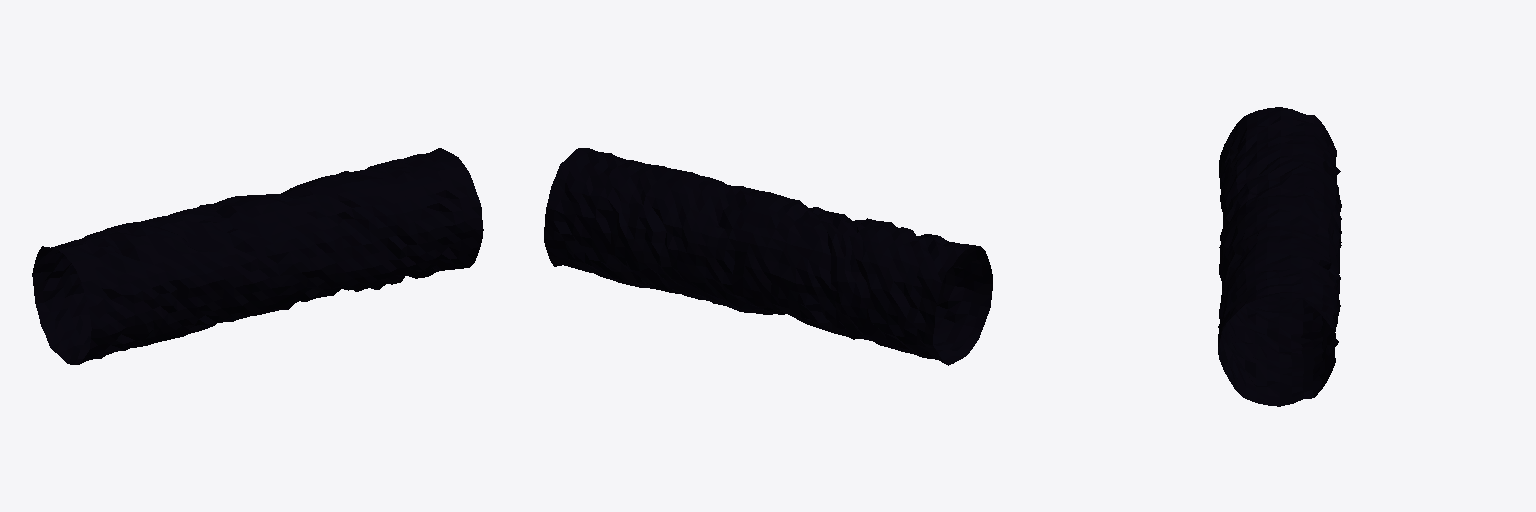
The model's file is gridploskve.obj.
3 views of the same model, side by side, from view 1: azimuth 30°, elevation 25°; view 2: azimuth 150°, elevation 25°; view 3: azimuth 270°, elevation 25° (orthographic).
Parts seen in each view (by area): view 1: Circle; view 2: Circle; view 3: Circle.
Part boxes in pixels (x1,y1,x2,y2): Circle: (32,148,483,364); Circle: (544,148,992,365); Circle: (1218,107,1341,406).
Bounding box in the file's own units: 13.9 × 3.85 × 3.83.